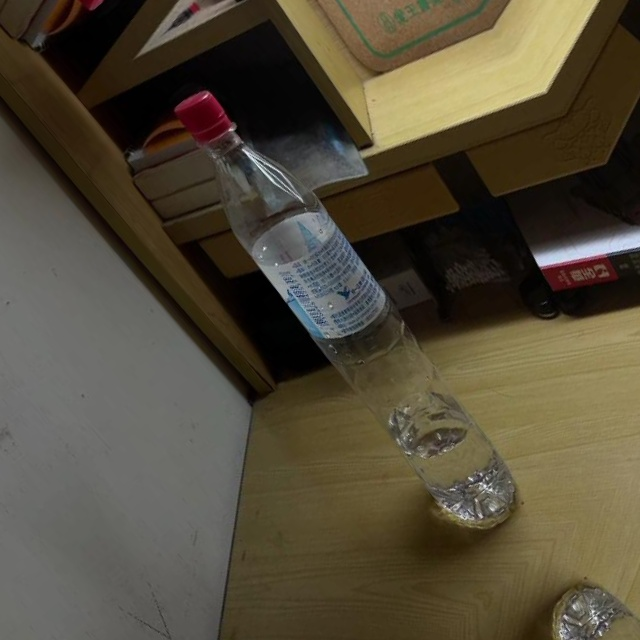Water: (131, 72, 554, 549)
